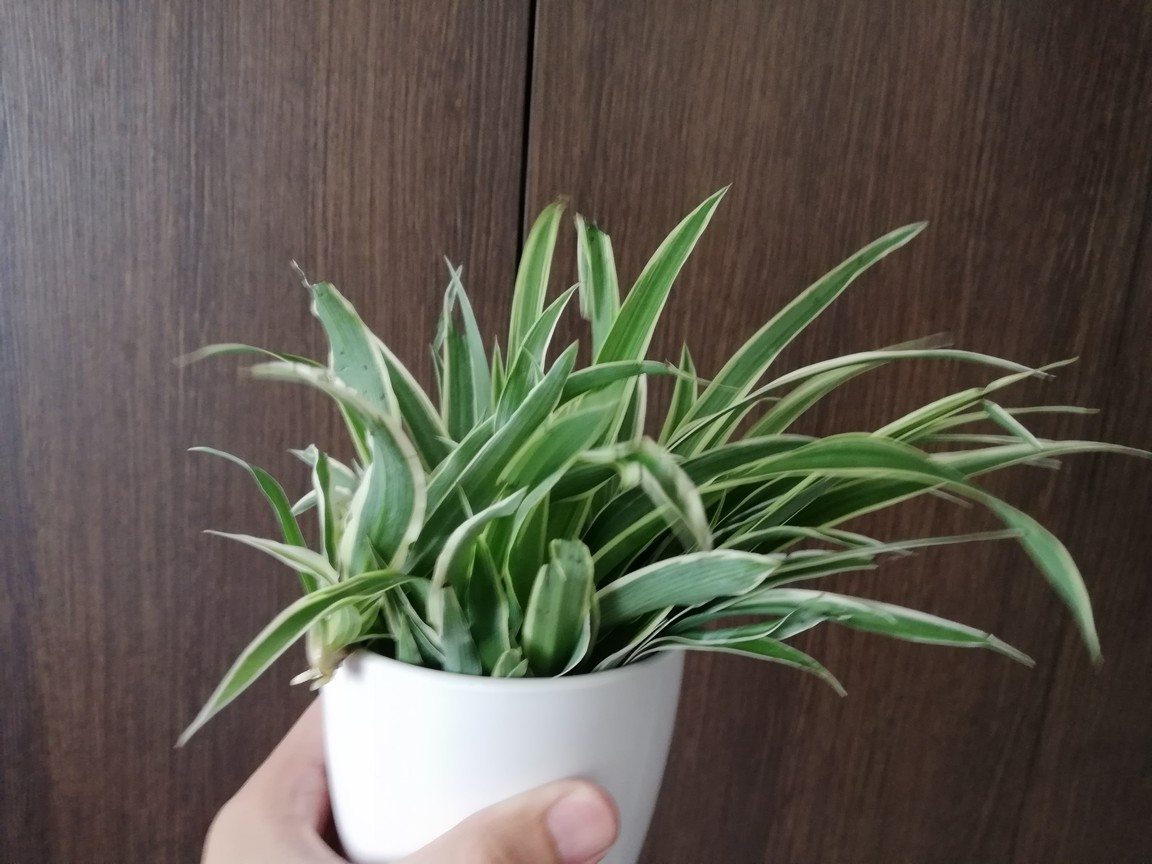daun: (749, 214, 935, 343), (167, 597, 300, 756), (998, 505, 1109, 662), (625, 178, 735, 324), (894, 602, 1037, 668), (789, 348, 1054, 382), (506, 191, 569, 318), (183, 443, 287, 517), (514, 341, 585, 426), (444, 251, 487, 380), (201, 527, 293, 587), (786, 643, 853, 703), (529, 276, 584, 340), (1054, 435, 1152, 468), (961, 404, 1106, 425), (391, 608, 433, 677), (675, 338, 700, 411), (358, 526, 392, 574), (428, 338, 457, 389), (491, 333, 508, 402), (283, 441, 316, 475), (517, 342, 543, 383)
